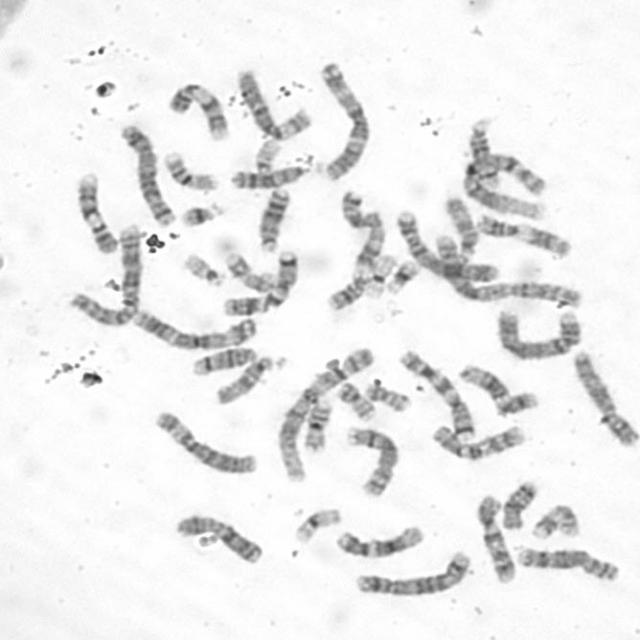A1: (273, 346, 375, 486), (460, 152, 549, 223)
A2: (435, 232, 584, 310), (68, 218, 143, 330)
A3: (316, 57, 374, 183), (128, 308, 259, 351)
B4: (396, 209, 502, 284), (494, 305, 584, 363)
B5: (119, 124, 176, 228), (352, 550, 472, 598)
C10: (472, 493, 518, 586), (430, 424, 528, 464)
C11: (326, 226, 387, 314), (474, 212, 574, 258)
C12: (455, 362, 541, 417), (332, 525, 427, 560)
C6: (152, 410, 262, 479), (235, 67, 312, 142)
C7: (396, 349, 476, 442), (221, 250, 298, 318)
C8: (343, 425, 401, 499), (514, 546, 622, 583)
C9: (162, 80, 233, 144), (75, 170, 118, 256)
D13: (229, 163, 311, 190), (257, 186, 291, 251)
D14: (463, 118, 502, 190), (190, 345, 258, 378)
D15: (213, 354, 284, 407), (443, 197, 481, 255)
E16: (163, 149, 221, 191), (302, 398, 332, 454)
E17: (222, 251, 279, 294), (529, 503, 588, 542)
E18: (500, 477, 540, 530), (339, 190, 387, 230)
F19: (290, 507, 343, 544), (361, 252, 400, 299)
F20: (333, 380, 378, 423), (363, 382, 411, 414)
G21: (386, 258, 424, 296), (178, 200, 226, 229)
G22: (177, 250, 224, 288), (254, 135, 286, 173)
X: (572, 352, 640, 448), (174, 514, 264, 567)
